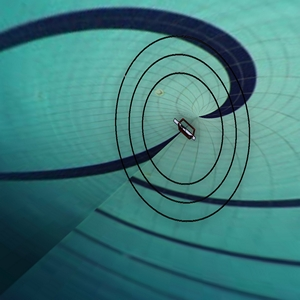circle: (104, 27, 260, 235)
submarine: (166, 111, 204, 148)
